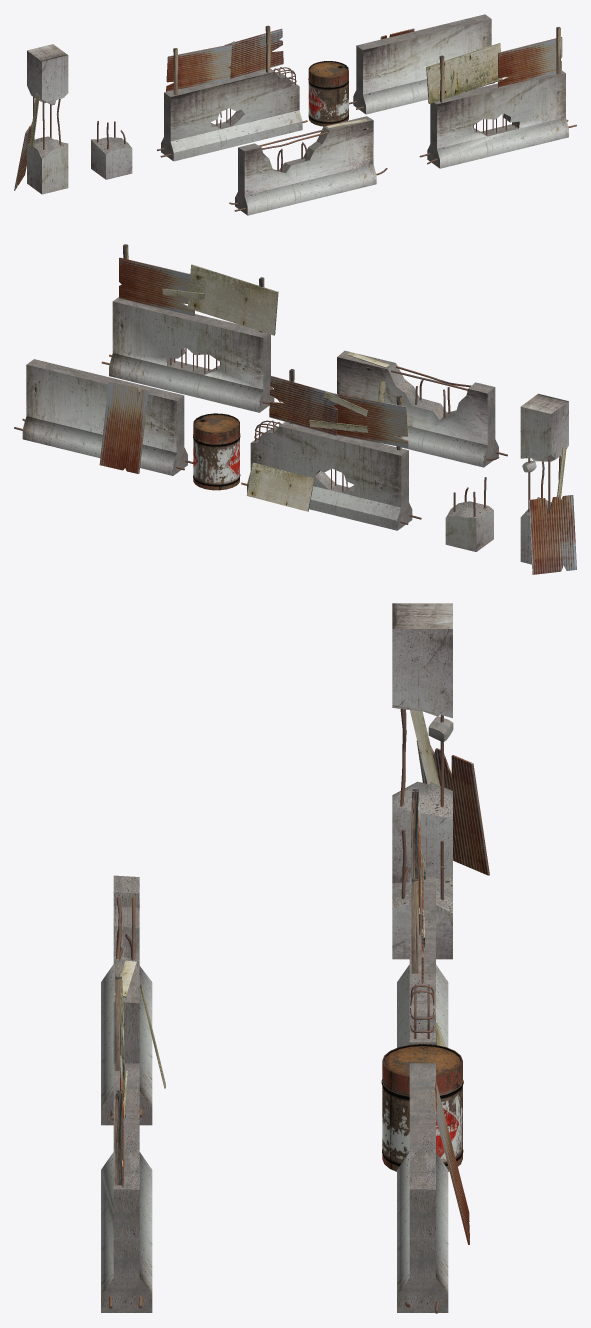
The model's file is checkpoint_barriers.glb.
The picture shows the model from 3 angles, top to bottom: view 1: azimuth 30°, elevation 25°; view 2: azimuth 150°, elevation 25°; view 3: azimuth 270°, elevation 25°; orthographic projection. The views are drawn at different scales.
Visible parts, largest first — view 1: pasted__pasted__pasted__pCube1_lambert1_0, pasted__pCube1_lambert1_0, pasted__pasted__pasted__pCube1_lambert1_0.001, pasted__pasted__pCube1_lambert1_0, pasted__pasted__pasted__pCube4_pasted__pasted__pasted__lambe, pCylinder4_lambert7_0, pCube3_lambert5_0, pasted__pCube3_pasted__lambert15_0, pasted__pasted__pCube5_lambert1_0, pCube2_lambert5_0, pasted__pCube5_lambert1_0, pasted__pasted__pCube1_pasted__lambert12_0 (+8 smaller); view 2: pasted__pasted__pasted__pCube1_lambert1_0, pasted__pCube1_lambert1_0, pasted__pasted__pCube1_lambert1_0, pasted__pasted__pasted__pCube1_lambert1_0.001, pasted__pasted__pasted__pCube4_pasted__pasted__pasted__lambe, pasted__pCube3_pasted__lambert13_0, pCylinder4_lambert7_0, pasted__pCube2_pasted__lambert10_0, pasted__pasted__pCube5_lambert1_0, pasted__pCube3_pasted__lambert15_0, pCube2_lambert5_0, pCube3_lambert5_0 (+10 smaller); view 3: pasted__pasted__pCube1_pasted__lambert12_0, pasted__pasted__pCube5_lambert1_0, pasted__pasted__pasted__pCube1_pasted__pasted__lambert12_0, pCylinder4_lambert7_0, pasted__pasted__pasted__pCube1_lambert3_0.001, pasted__pCube2_pasted__lambert10_0, pasted__pasted__pasted__pCube1_lambert1_0, pasted__pCube1_lambert3_0, pasted__pasted__pasted__pCube1_lambert1_0.001, pasted__pasted__pCube1_lambert1_0, pasted__pCube5_lambert1_0, pCube5_lambert1_0 (+5 smaller).
Boxes of the visible parts, <box> form: pasted__pasted__pasted__pCube1_lambert1_0: <box>437,73,568,168</box>; pasted__pCube1_lambert1_0: <box>170,72,302,161</box>; pasted__pasted__pasted__pCube1_lambert1_0.001: <box>244,120,376,215</box>; pasted__pasted__pCube1_lambert1_0: <box>363,19,494,114</box>; pasted__pasted__pasted__pCube4_pasted__pasted__pasted__lambe: <box>426,43,502,103</box>; pCylinder4_lambert7_0: <box>308,61,348,126</box>; pCube3_lambert5_0: <box>166,44,231,91</box>; pasted__pCube3_pasted__lambert15_0: <box>498,37,562,87</box>; pasted__pasted__pCube5_lambert1_0: <box>27,44,68,101</box>; pCube2_lambert5_0: <box>224,28,283,79</box>; pasted__pCube5_lambert1_0: <box>27,144,68,194</box>; pasted__pasted__pCube1_pasted__lambert12_0: <box>353,14,490,114</box>; pasted__pasted__pasted__pCube1_lambert1_0: <box>109,301,263,412</box>; pasted__pCube1_lambert1_0: <box>247,426,401,530</box>; pasted__pasted__pCube1_lambert1_0: <box>22,364,176,475</box>; pasted__pasted__pasted__pCube1_lambert1_0.001: <box>337,357,487,467</box>; pasted__pasted__pasted__pCube4_pasted__pasted__pasted__lambe: <box>187,264,278,335</box>; pasted__pCube3_pasted__lambert13_0: <box>99,381,148,473</box>; pCylinder4_lambert7_0: <box>193,413,240,490</box>; pasted__pCube2_pasted__lambert10_0: <box>528,495,576,574</box>; pasted__pasted__pCube5_lambert1_0: <box>520,393,568,459</box>; pasted__pCube3_pasted__lambert15_0: <box>119,257,194,316</box>; pCube2_lambert5_0: <box>269,376,338,436</box>; pCube3_lambert5_0: <box>333,393,408,447</box>; pasted__pasted__pCube1_pasted__lambert12_0: <box>397,1063,448,1312</box>; pasted__pasted__pCube5_lambert1_0: <box>392,603,452,718</box>; pasted__pasted__pasted__pCube1_pasted__pasted__lambert12_0: <box>101,1063,152,1312</box>; pCylinder4_lambert7_0: <box>381,1044,463,1171</box>; pasted__pasted__pasted__pCube1_lambert3_0.001: <box>101,875,152,1125</box>; pasted__pCube2_pasted__lambert10_0: <box>416,741,489,875</box>; pasted__pasted__pasted__pCube1_lambert1_0: <box>101,1152,152,1295</box>; pasted__pCube1_lambert3_0: <box>409,875,435,1044</box>; pasted__pasted__pasted__pCube1_lambert1_0.001: <box>101,964,152,1107</box>; pasted__pasted__pCube1_lambert1_0: <box>397,1152,448,1295</box>; pasted__pCube5_lambert1_0: <box>392,805,452,883</box>; pCube5_lambert1_0: <box>392,904,452,959</box>.
Bounding box in the file's own units: 8 × 2.13 × 2.8.
7 materials, 7 textured.
